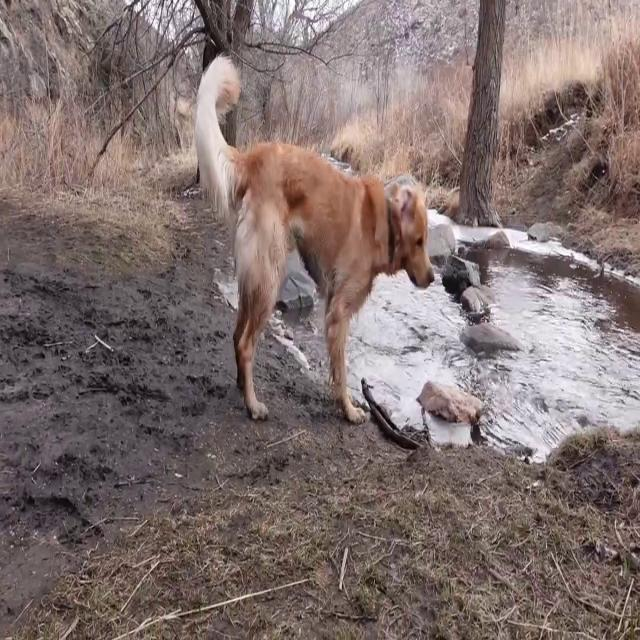Dog: (196, 56, 435, 423)
